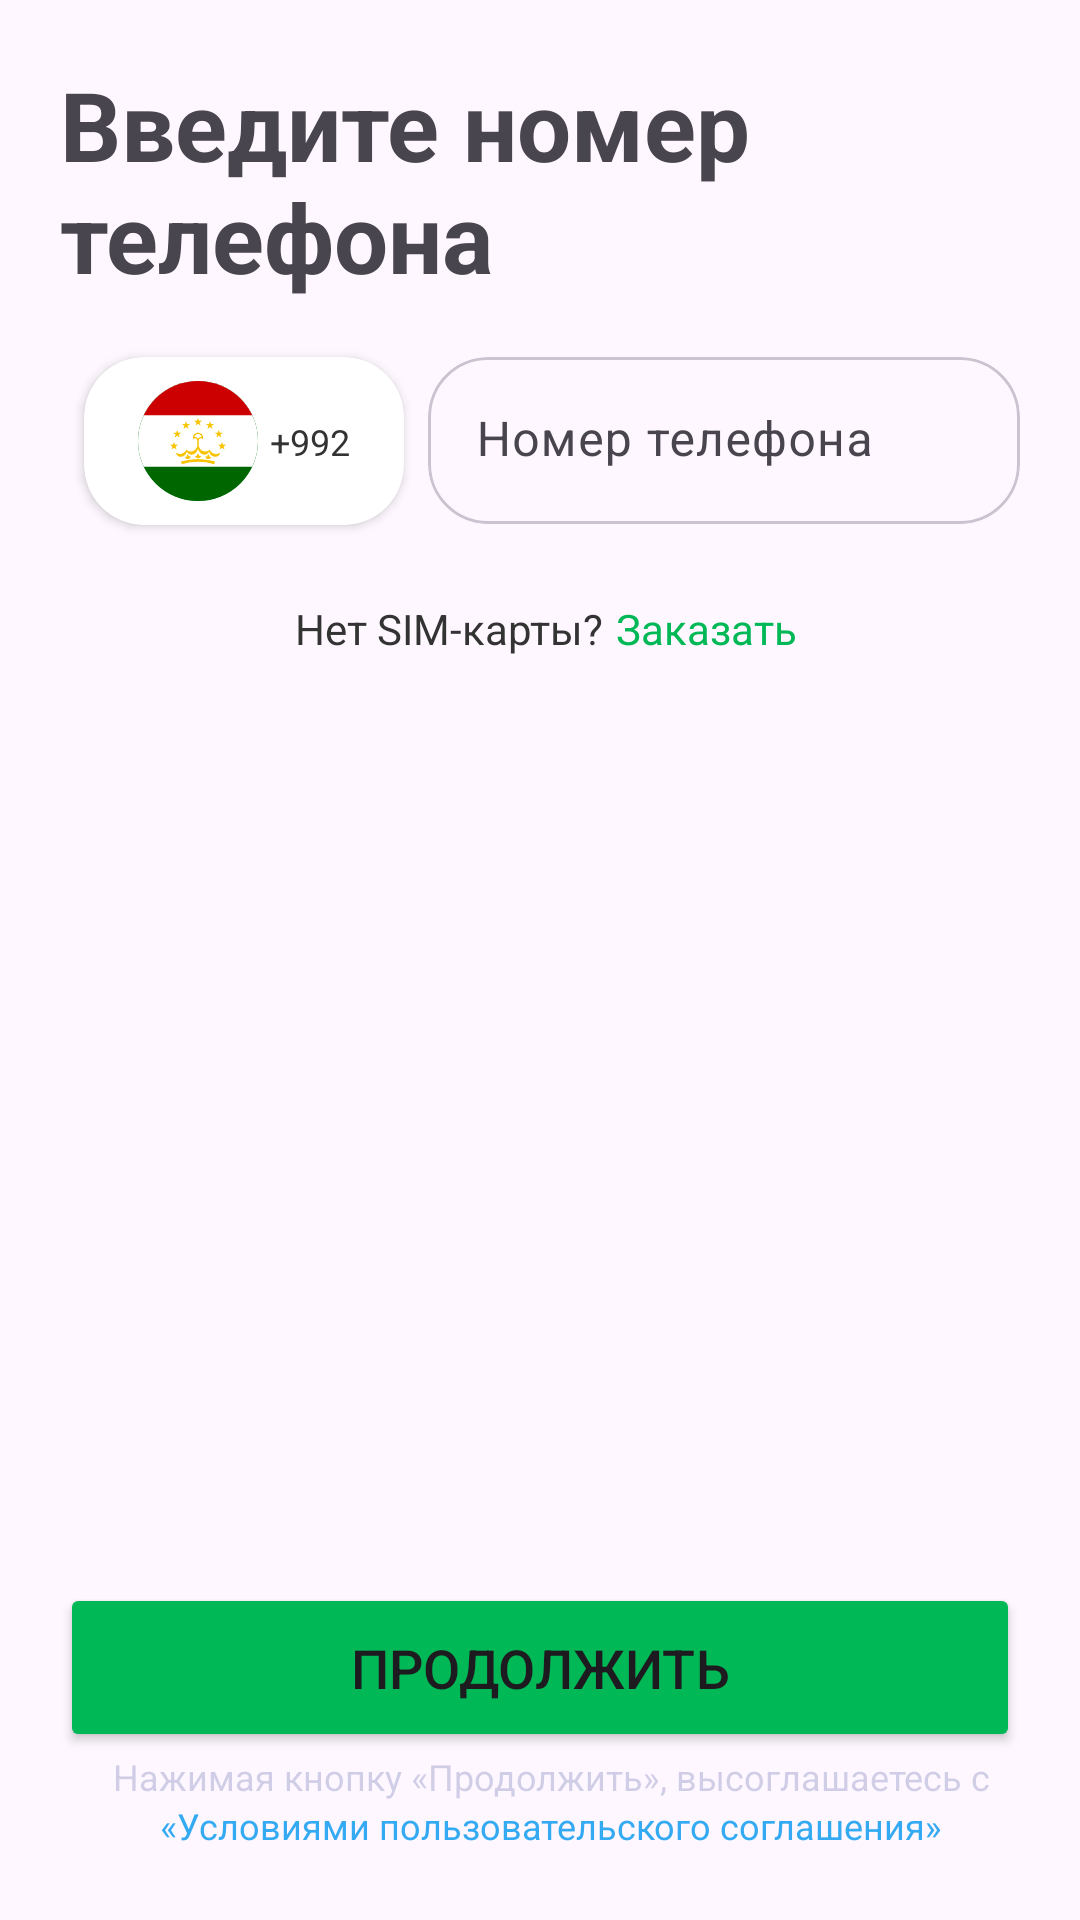

Icons on this 1080px×1920px Android screen, each with the point to tap as (x=x, y=y):
tajikistan: (x=198, y=441)
